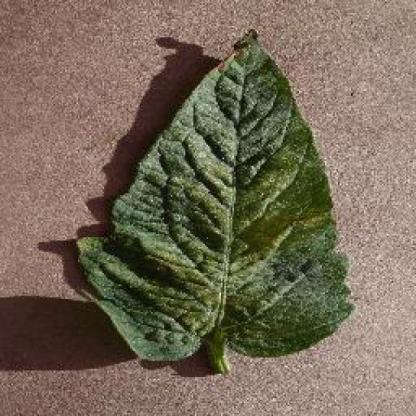Tomato_Spider_Mites: (75, 29, 352, 362)
